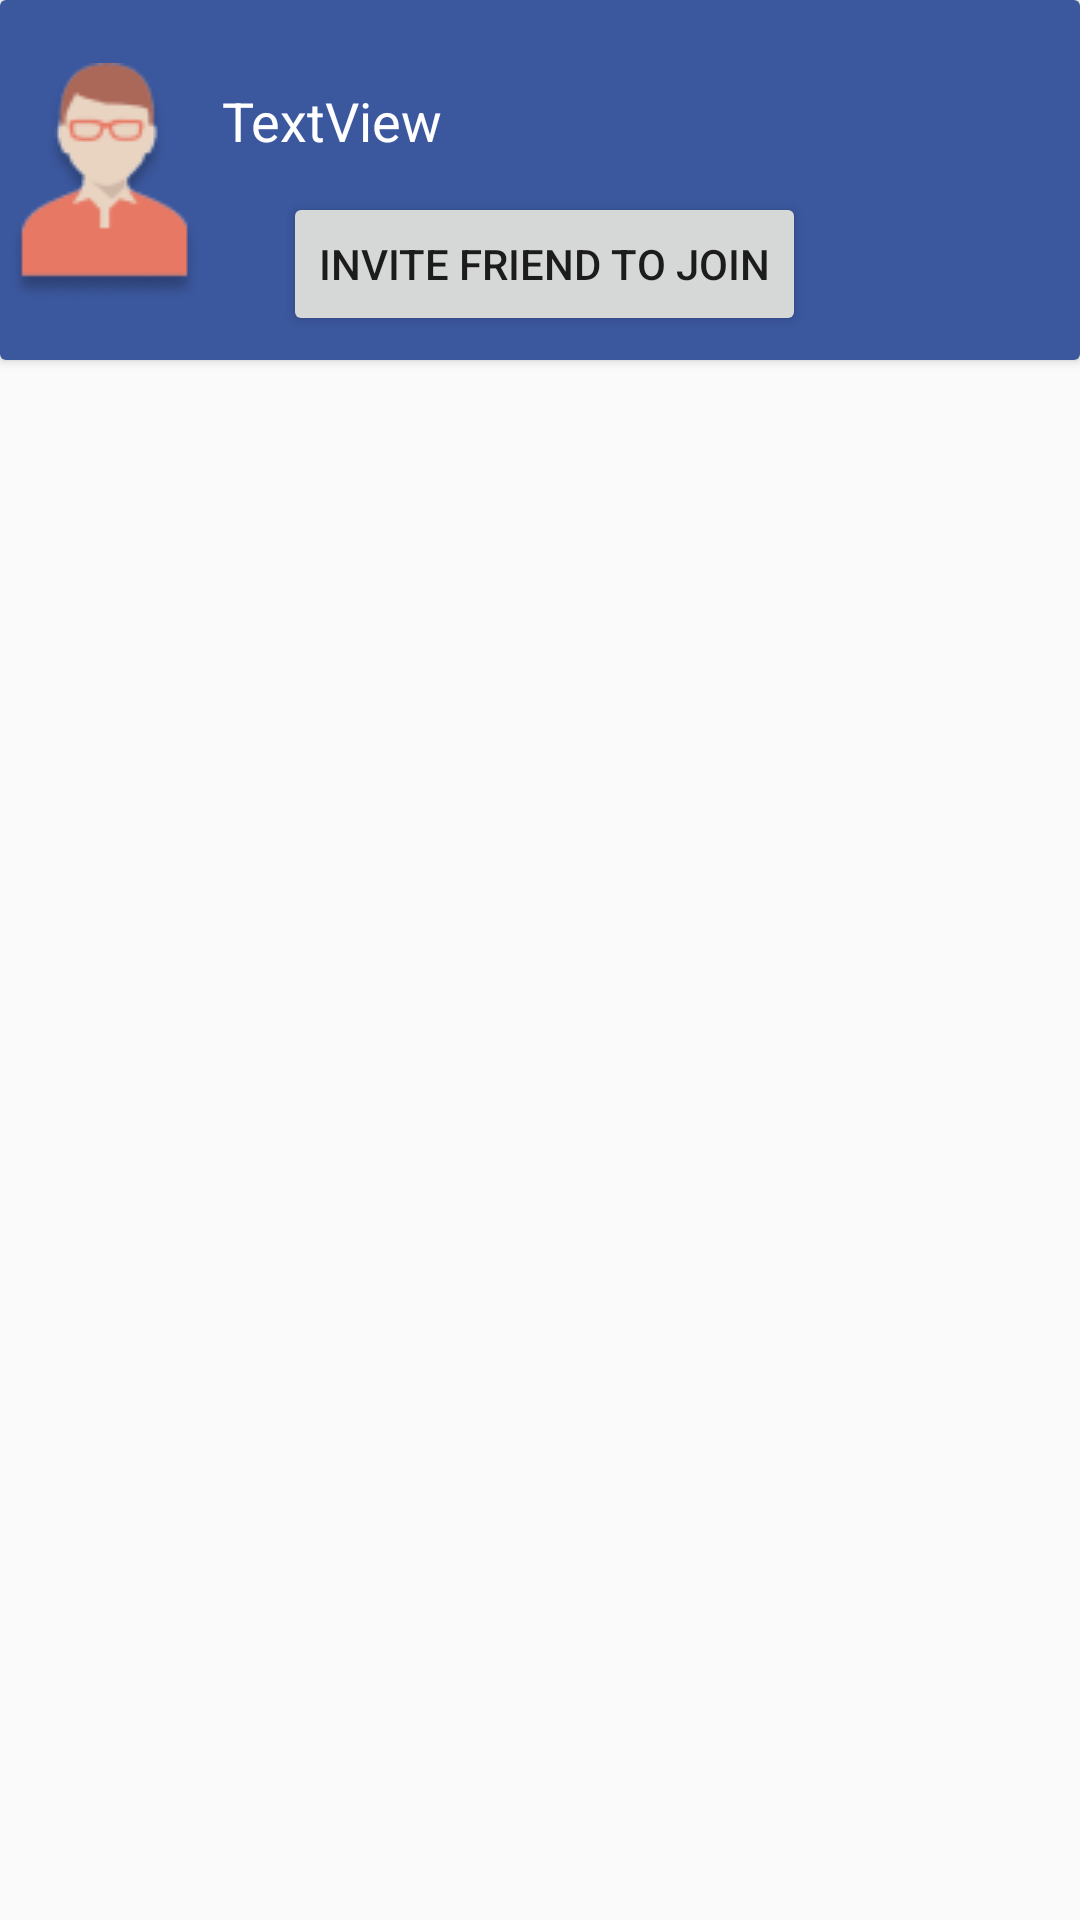

Point at icon controls on the screen. Image size 1080x1920, points as (x=x, y=y).
man: (x=104, y=175)
